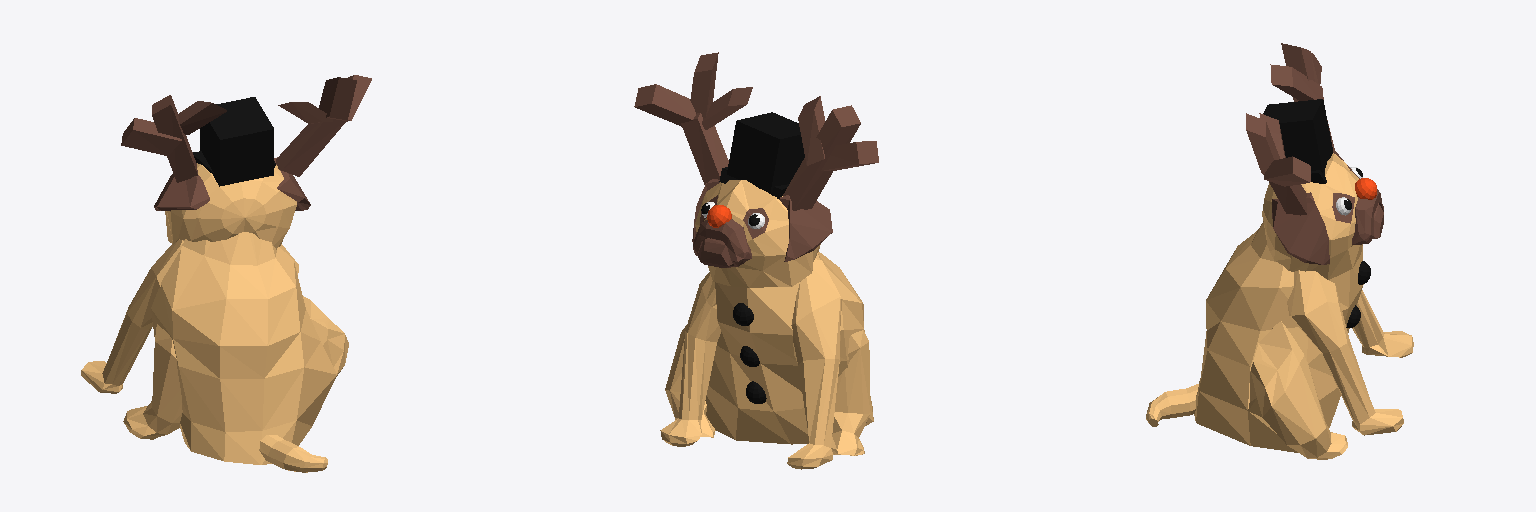
File: pugdolf_model.obj
The picture shows the model from 3 angles: view 1: azimuth 30°, elevation 25°; view 2: azimuth 150°, elevation 25°; view 3: azimuth 270°, elevation 25°; orthographic projection.
Parts seen in each view (by area): view 1: group[number redacted], group[number redacted], group[number redacted], group[number redacted], group[number redacted], group[number redacted], group[number redacted], group[number redacted]; view 2: group[number redacted], group[number redacted], group[number redacted], group[number redacted], group[number redacted], group[number redacted], group[number redacted], group[number redacted], group[number redacted]; view 3: group[number redacted], group[number redacted], group[number redacted], group[number redacted], group[number redacted], group[number redacted], group[number redacted].
Boxes of the visible parts, x1,y1,x2,y2 form: group[number redacted]: [81, 157, 348, 472]; group[number redacted]: [200, 97, 273, 186]; group[number redacted]: [276, 119, 345, 176]; group[number redacted]: [152, 95, 197, 182]; group[number redacted]: [121, 118, 181, 155]; group[number redacted]: [319, 77, 356, 120]; group[number redacted]: [178, 101, 226, 134]; group[number redacted]: [278, 102, 332, 123]; group[number redacted]: [660, 179, 873, 469]; group[number redacted]: [727, 112, 804, 192]; group[number redacted]: [783, 105, 860, 210]; group[number redacted]: [681, 113, 728, 184]; group[number redacted]: [634, 84, 695, 126]; group[number redacted]: [798, 96, 824, 165]; group[number redacted]: [690, 52, 718, 118]; group[number redacted]: [821, 141, 878, 170]; group[number redacted]: [702, 87, 752, 129]; group[number redacted]: [1146, 149, 1413, 459]; group[number redacted]: [1263, 99, 1332, 172]; group[number redacted]: [1270, 64, 1323, 100]; group[number redacted]: [1246, 113, 1279, 174]; group[number redacted]: [1264, 156, 1310, 186]; group[number redacted]: [1281, 43, 1334, 149]; group[number redacted]: [1269, 181, 1306, 215].
Bounding box in the file's own units: 0.4434 × 0.6025 × 0.4179.